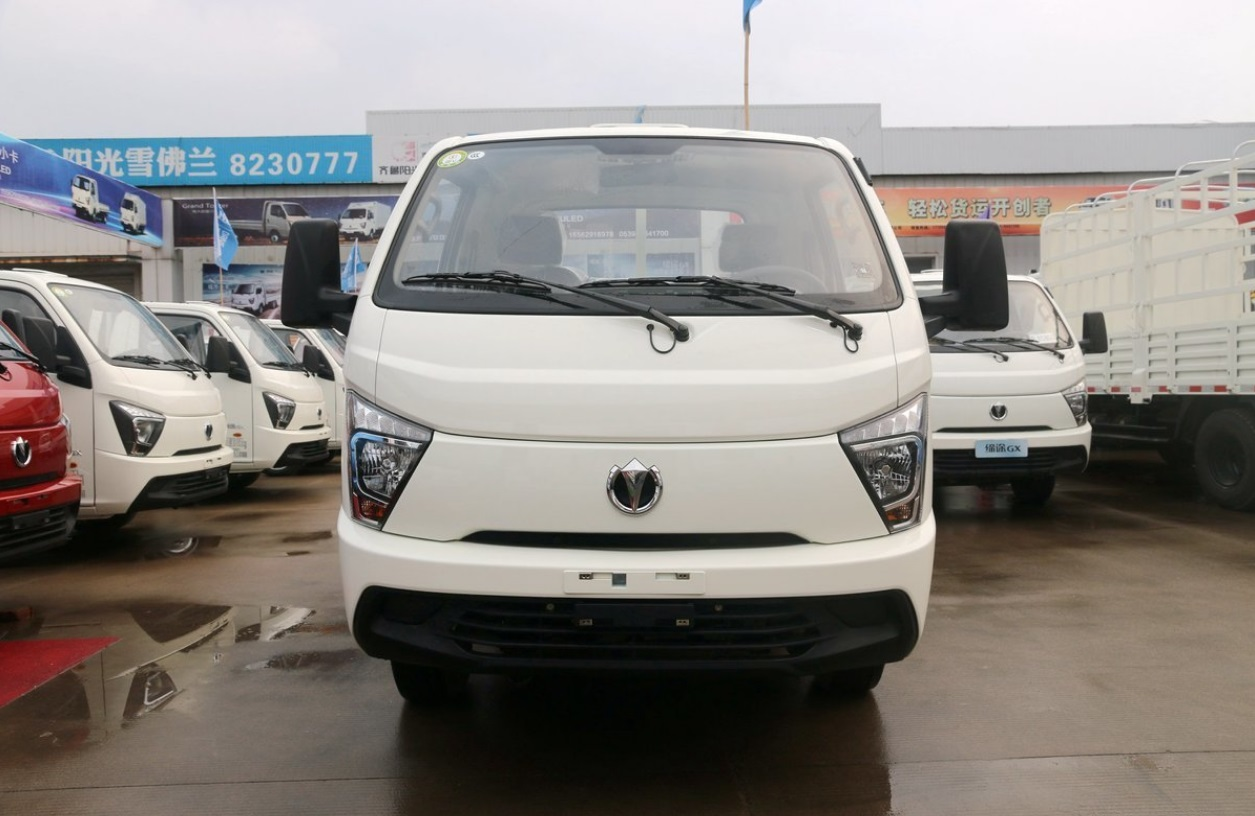truck: (279, 120, 1013, 728)
